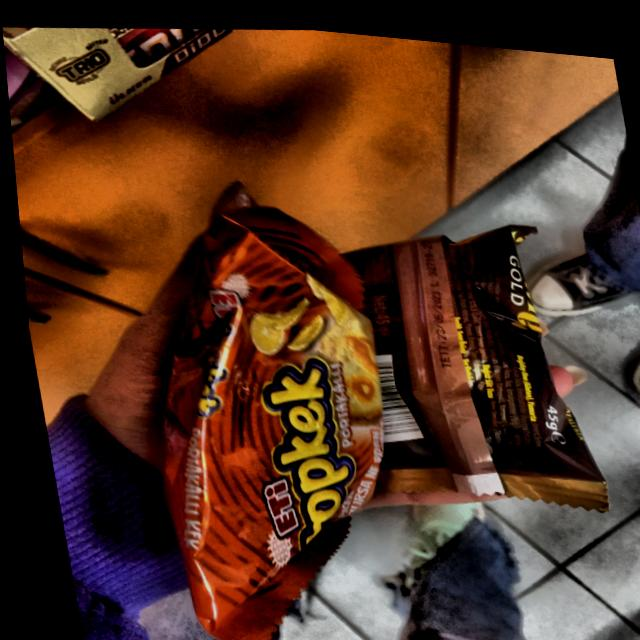Plastic: (85, 172, 470, 638), (297, 160, 630, 542)
